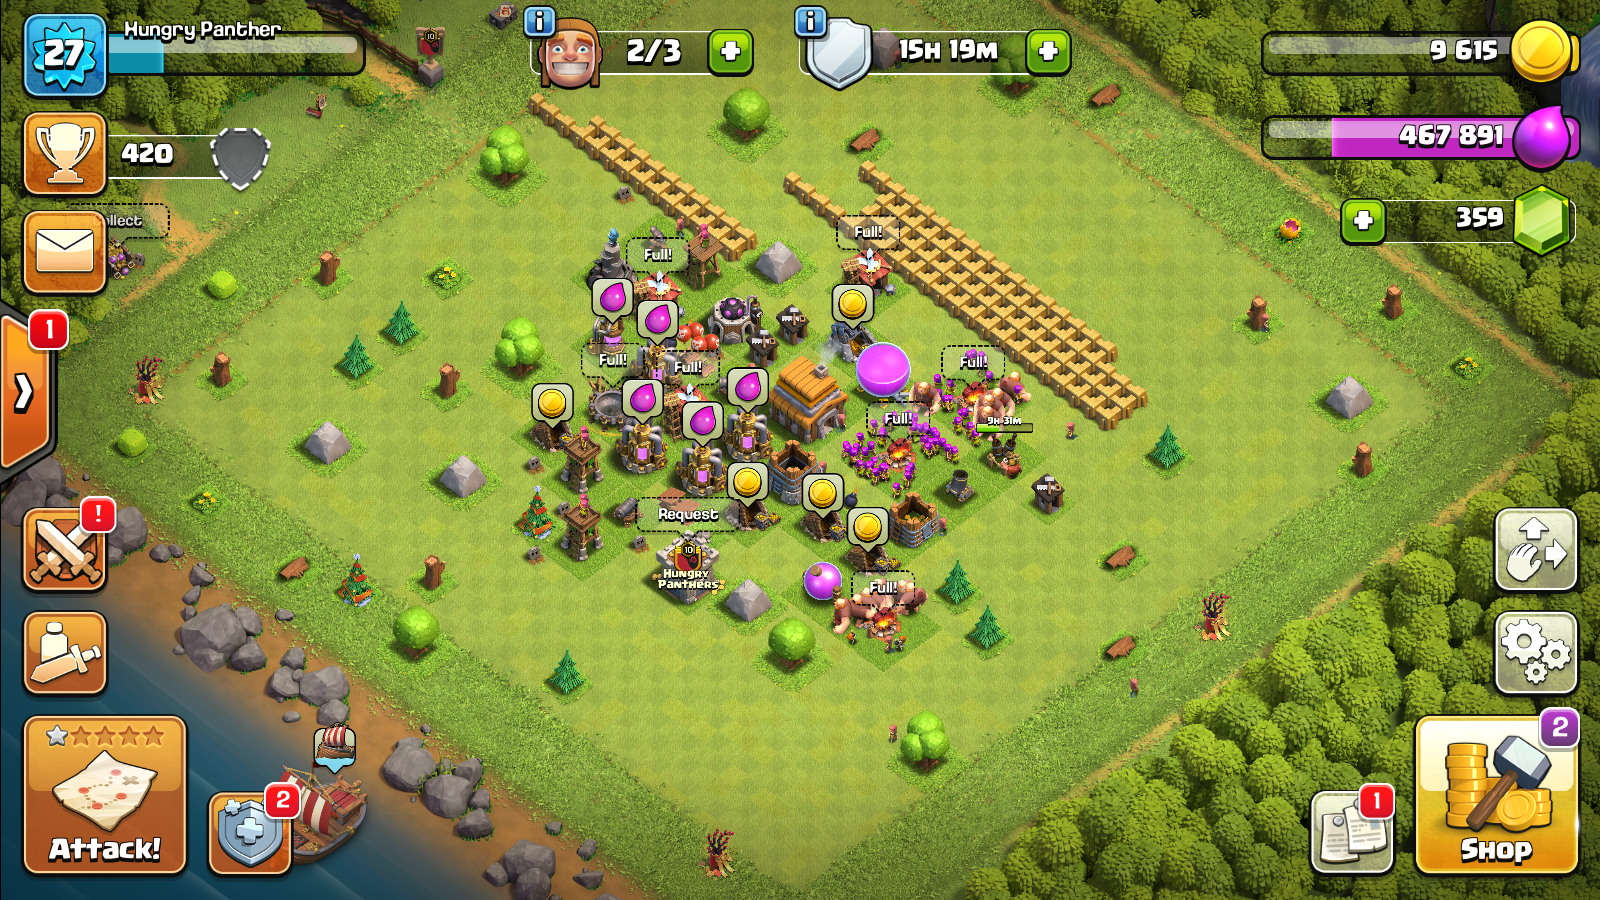army_menu: (26, 613, 113, 697)
elixer_available: (1513, 105, 1573, 171)
elixer_collect: (727, 366, 769, 407), (592, 280, 635, 316), (624, 380, 665, 416), (684, 400, 720, 438), (638, 301, 675, 335)
gold_available: (1510, 24, 1571, 84)
gold_collect: (848, 507, 888, 546), (534, 384, 576, 421), (834, 284, 871, 323), (727, 463, 769, 497), (804, 475, 846, 509)
start_attack: (23, 715, 190, 876)
